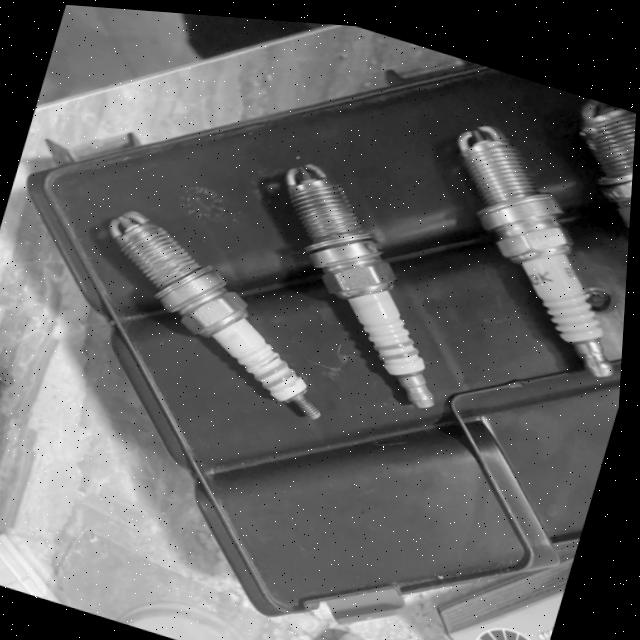spark-plug: (100, 200, 341, 427), (445, 111, 624, 373), (275, 142, 453, 404)
